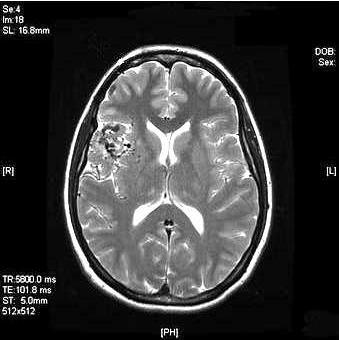Normal_Brain: (2, 1, 339, 340)
